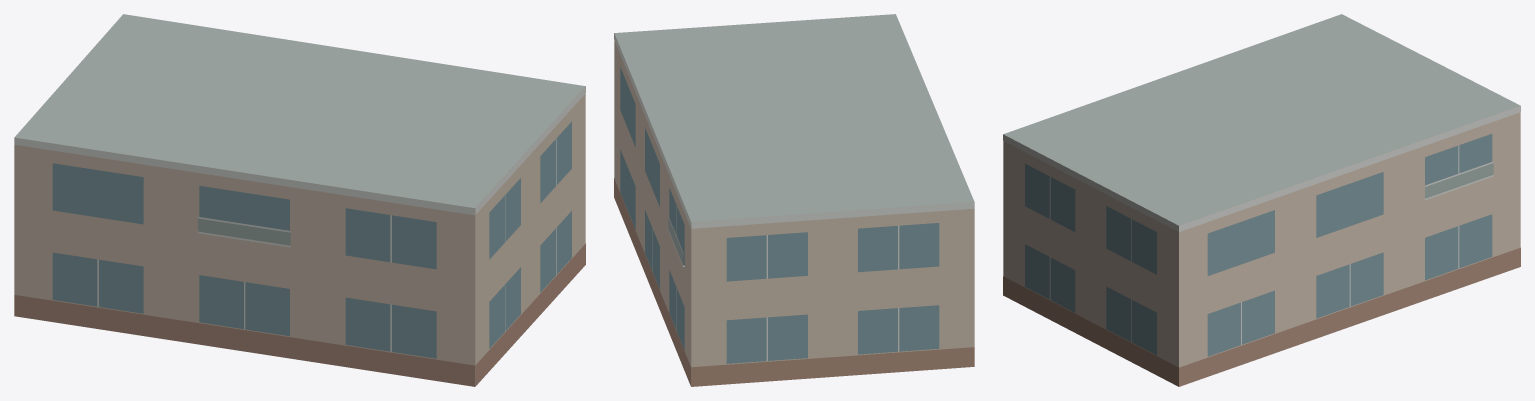
File: survey-upis-32832951.glb
The picture shows the model from 3 angles, left to right: view 1: azimuth 30°, elevation 25°; view 2: azimuth 150°, elevation 25°; view 3: azimuth 270°, elevation 25°; orthographic projection. The views are drawn at different scales.
Visible parts, largest first — view 1: survey-upis-32832951.tmp; view 2: survey-upis-32832951.tmp; view 3: survey-upis-32832951.tmp.
Boxes of the visible parts, <box> form: survey-upis-32832951.tmp: <box>14,14,585,386</box>; survey-upis-32832951.tmp: <box>614,14,974,386</box>; survey-upis-32832951.tmp: <box>1003,14,1520,386</box>.
Size of the model in its own units: 17.21 by 6.1 by 17.77.
